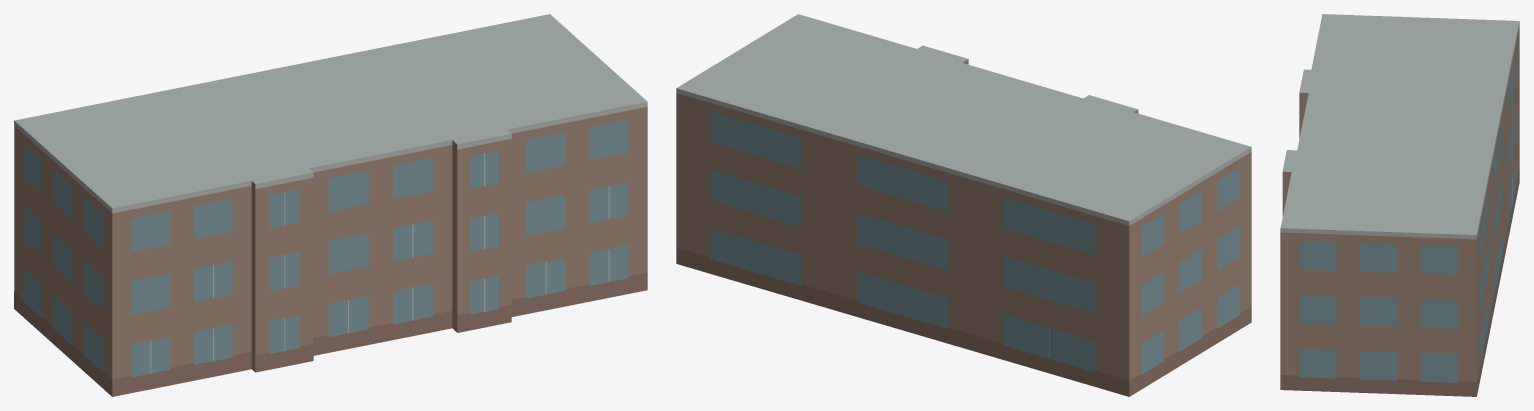
Rendered from survey-upis-32805382.glb.
3 renders of one model, left to right at view 1: azimuth 30°, elevation 25°; view 2: azimuth 150°, elevation 25°; view 3: azimuth 270°, elevation 25°, orthographic. The views are drawn at different scales.
Parts seen in each view (by area): view 1: survey-upis-32805382.tmp; view 2: survey-upis-32805382.tmp; view 3: survey-upis-32805382.tmp.
Boxes of the visible parts, x1=… form: survey-upis-32805382.tmp: x1=14, y1=14, x2=647, y2=396; survey-upis-32805382.tmp: x1=676, y1=14, x2=1251, y2=396; survey-upis-32805382.tmp: x1=1280, y1=14, x2=1519, y2=396.
Bounding box in the file's own units: 26.82 × 9.15 × 12.26.
